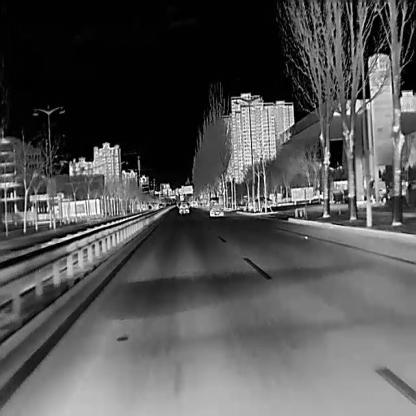car: (246, 196, 273, 208), (178, 200, 188, 213)
truck: (208, 192, 223, 216)
